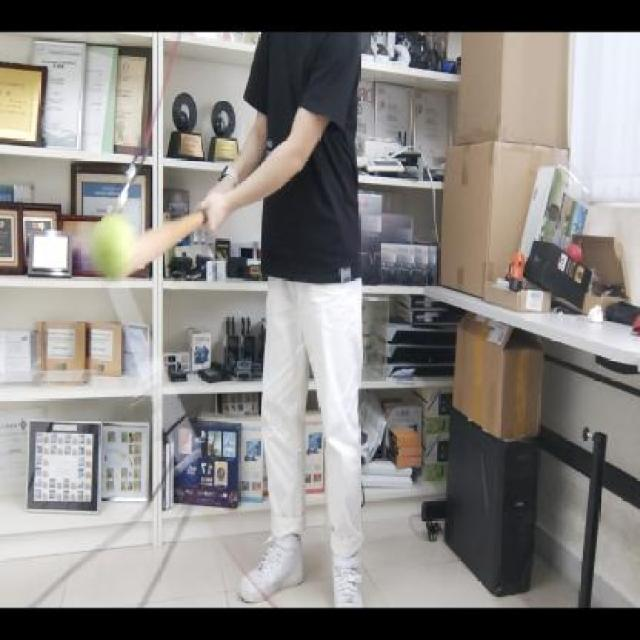baseball: (88, 213, 132, 284)
